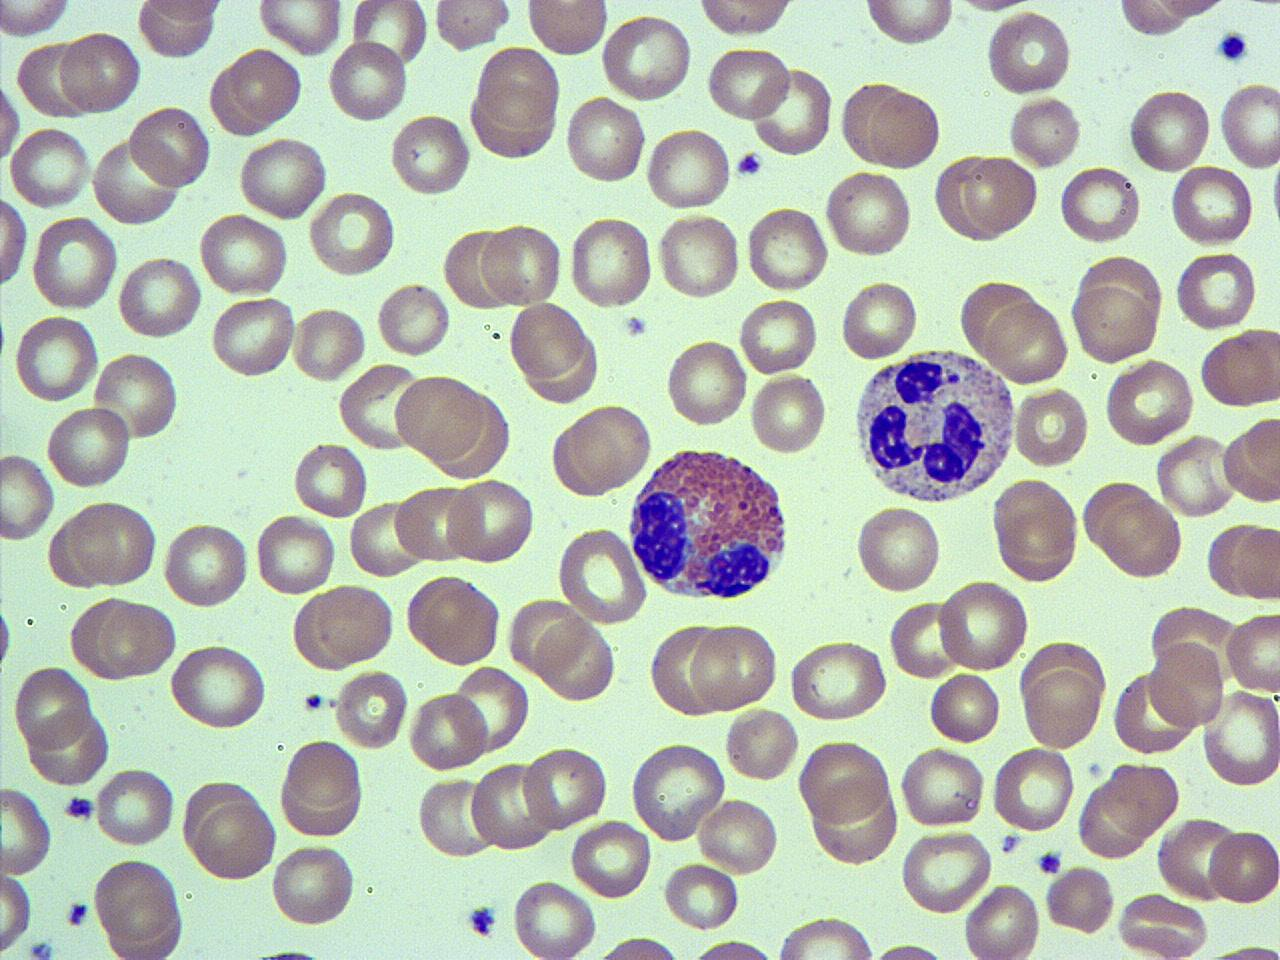Platelets: (252, 941, 324, 960), (1215, 28, 1251, 66), (464, 902, 498, 940), (63, 792, 96, 823), (65, 896, 92, 930), (734, 151, 764, 179), (1036, 848, 1064, 876), (26, 936, 56, 960), (623, 314, 650, 340), (997, 832, 1022, 855), (303, 690, 324, 710)
RBC: (1073, 758, 1181, 858), (990, 473, 1081, 585), (630, 738, 728, 843), (89, 854, 186, 956), (555, 526, 650, 628), (293, 580, 400, 670), (405, 570, 503, 668), (934, 576, 1031, 675), (168, 641, 272, 733), (852, 500, 944, 598), (598, 10, 694, 102), (566, 212, 655, 312), (788, 636, 890, 723), (1102, 356, 1196, 449), (91, 348, 182, 444), (822, 166, 914, 262), (29, 214, 119, 311), (89, 134, 181, 227), (690, 618, 782, 712), (1199, 684, 1280, 790), (393, 370, 486, 462), (160, 518, 250, 613), (796, 736, 892, 825), (12, 310, 101, 404), (67, 498, 158, 589), (442, 476, 536, 565), (466, 76, 560, 163), (196, 212, 292, 297), (307, 189, 398, 279), (269, 841, 360, 932), (898, 830, 994, 916), (984, 7, 1073, 98), (654, 210, 742, 303), (468, 758, 554, 852), (280, 736, 367, 830), (664, 335, 750, 430), (563, 92, 648, 188), (1020, 655, 1104, 752), (750, 64, 835, 158), (644, 124, 734, 213), (567, 401, 654, 493), (990, 742, 1076, 834), (236, 136, 331, 220), (45, 402, 133, 492), (520, 742, 608, 832), (984, 296, 1070, 387), (1126, 86, 1212, 176), (116, 252, 204, 341), (897, 744, 988, 830), (453, 662, 532, 758), (532, 616, 620, 704), (208, 294, 298, 379), (1153, 432, 1239, 520), (650, 620, 728, 718), (1069, 280, 1157, 366), (696, 793, 782, 880), (745, 204, 828, 293), (57, 28, 143, 115), (1169, 161, 1255, 248), (478, 44, 562, 132), (8, 123, 92, 212), (128, 102, 212, 191), (478, 220, 563, 306), (191, 799, 277, 884), (1146, 638, 1226, 730), (1173, 248, 1259, 333), (511, 876, 598, 960), (388, 111, 472, 198), (11, 663, 92, 752), (703, 44, 794, 124), (568, 817, 654, 901), (327, 37, 408, 125), (736, 294, 820, 378), (415, 772, 497, 859), (93, 764, 176, 848), (1102, 496, 1184, 581), (254, 511, 337, 596), (408, 687, 488, 774), (1156, 816, 1238, 901), (508, 298, 590, 383), (1056, 164, 1142, 244), (961, 152, 1040, 238), (392, 481, 475, 563), (840, 278, 920, 362), (1011, 384, 1091, 469), (750, 372, 828, 458), (334, 665, 410, 752), (1198, 327, 1278, 410), (290, 438, 370, 521), (837, 76, 910, 165), (548, 410, 622, 500), (961, 880, 1042, 960), (65, 592, 142, 676), (888, 596, 963, 682), (868, 86, 942, 171), (347, 498, 425, 579), (1006, 91, 1084, 171), (1116, 891, 1210, 958), (441, 225, 513, 312), (375, 278, 452, 359), (228, 45, 304, 126), (724, 704, 800, 784), (931, 154, 1000, 243), (348, 0, 431, 72), (1207, 824, 1279, 908), (927, 668, 1003, 746), (102, 599, 176, 679), (292, 304, 366, 384), (1218, 78, 1280, 172), (660, 859, 740, 933), (0, 450, 58, 544), (0, 782, 54, 880), (1222, 414, 1280, 506), (1043, 862, 1115, 936), (255, 0, 345, 58), (770, 914, 882, 959), (1224, 608, 1280, 697), (524, 1, 608, 58), (860, 0, 956, 48), (692, 0, 800, 40), (432, 0, 512, 53), (0, 857, 35, 959), (1114, 0, 1204, 39), (1234, 524, 1280, 601), (0, 190, 29, 295), (0, 0, 75, 38), (586, 934, 690, 960), (864, 938, 955, 960), (1152, 0, 1236, 22), (1205, 940, 1280, 960)
WBC: (624, 440, 792, 608), (848, 343, 1019, 507)
